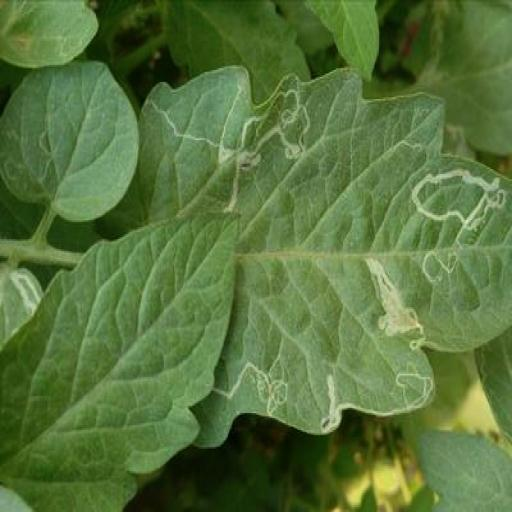Healthy: (0, 208, 239, 512)
Leaf Miner: (136, 64, 512, 448)
